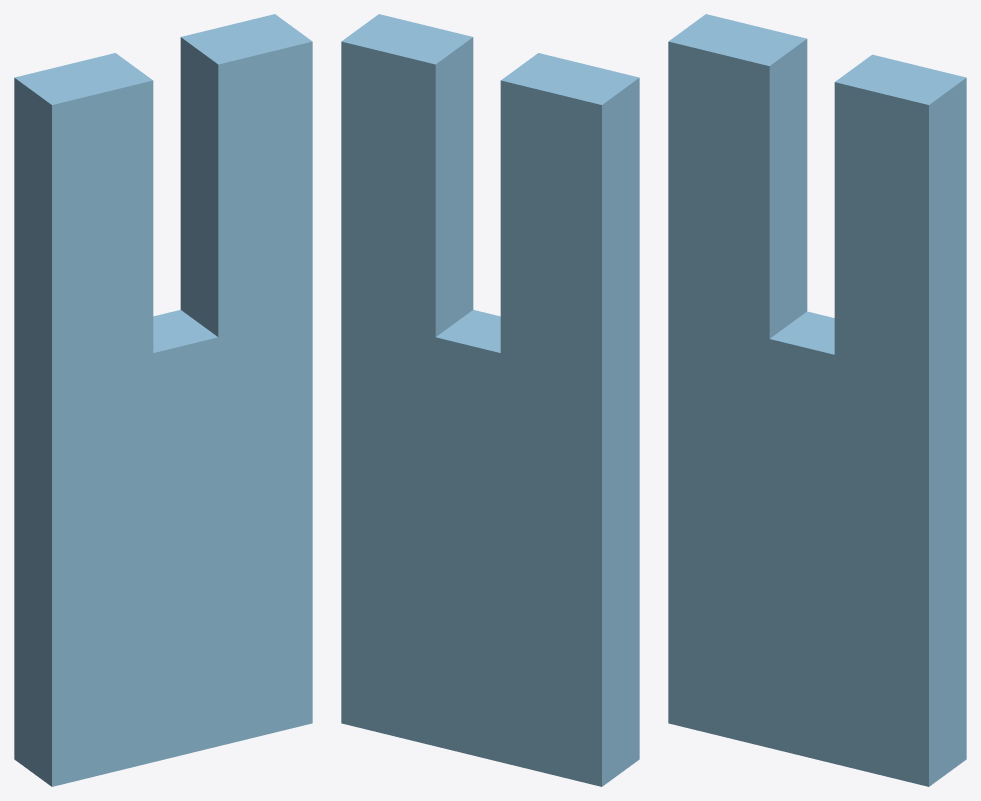
File: wall_1.dae
3 renders of one model, left to right at view 1: azimuth 30°, elevation 25°; view 2: azimuth 150°, elevation 25°; view 3: azimuth 330°, elevation 25°, orthographic.
Parts seen in each view (by area): view 1: ID2; view 2: ID2; view 3: ID2.
Part boxes in pixels (x1,y1,x2,y2): ID2: [14, 14, 312, 786]; ID2: [341, 14, 639, 786]; ID2: [668, 14, 966, 786].
Size of the model in its own units: 2 by 0.5 by 5.
